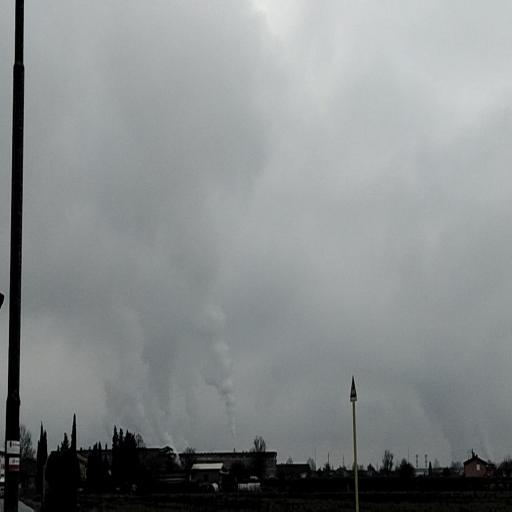leakage: (104, 243, 241, 470)
